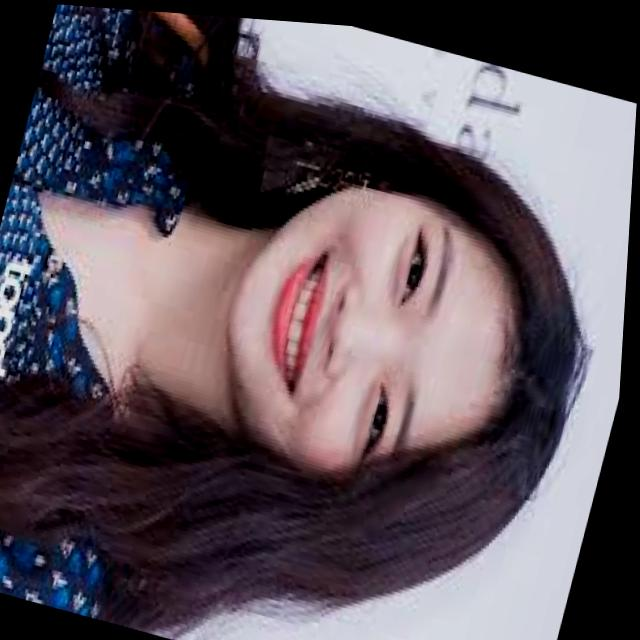face: (191, 140, 549, 516)
